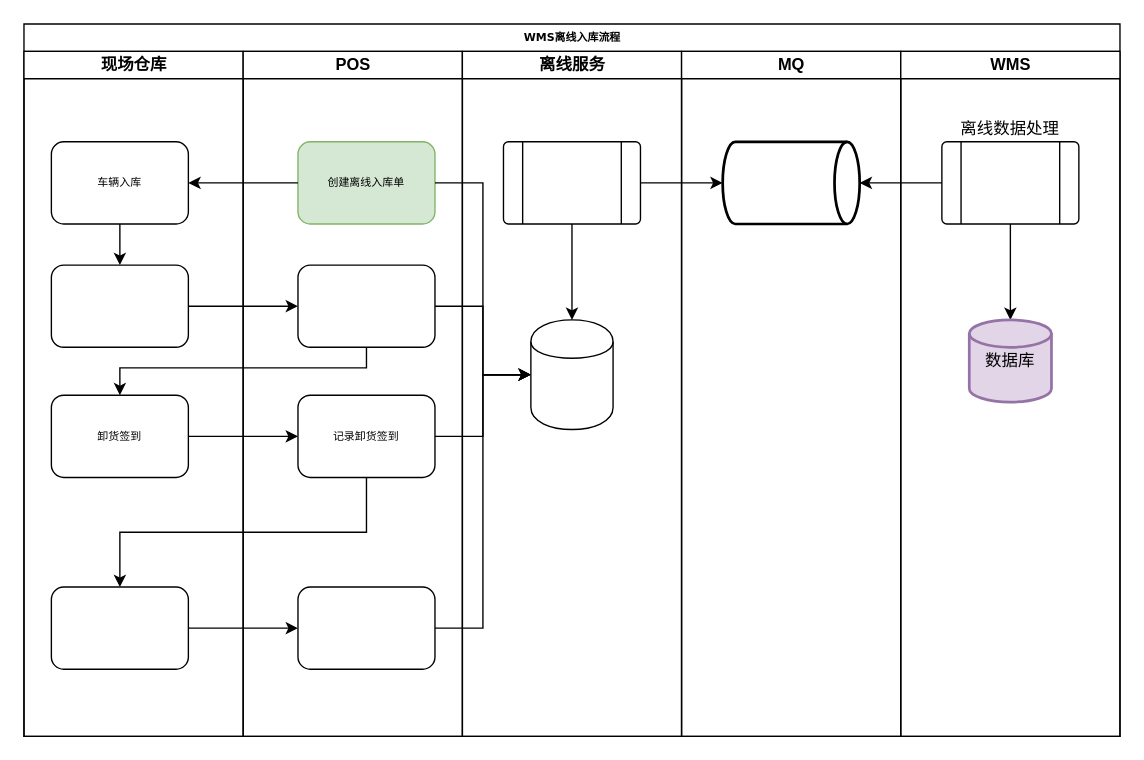
This 1144x760 diagram has some shape labels left out. The shapes that lost their labels are listed below. From the top down, each one's centre as x and y in pixels, then its label:
At pixel 571 182: "调度器".
At pixel 119 305: "重车过磅".
At pixel 366 305: "记录重车过磅".
At pixel 571 374: "离线数据".
At pixel 119 627: "空车过磅".
At pixel 366 627: "记录空车过磅".
